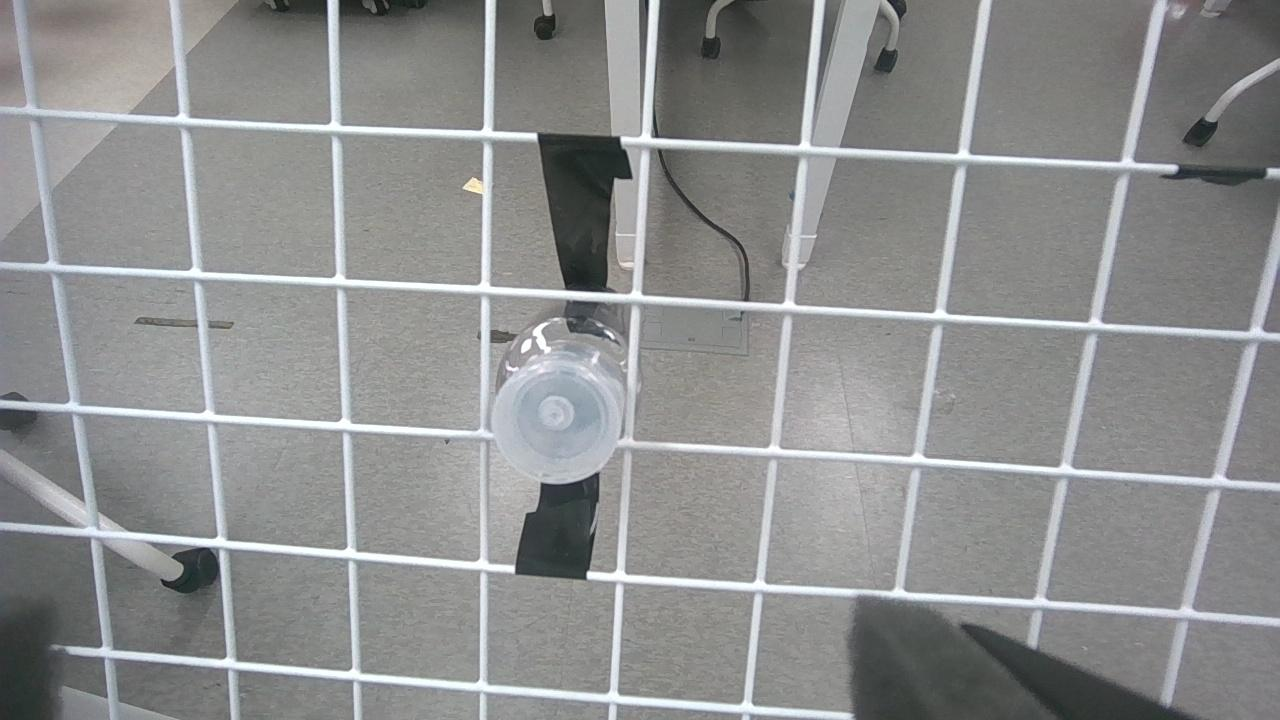Cap: (482, 360, 625, 486)
